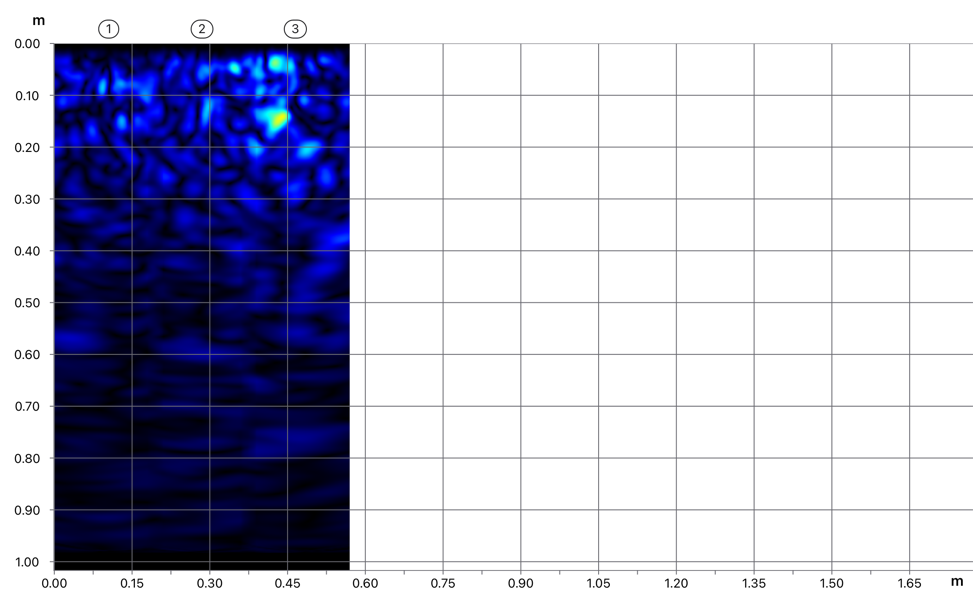crop: (0, 5, 349, 330)
